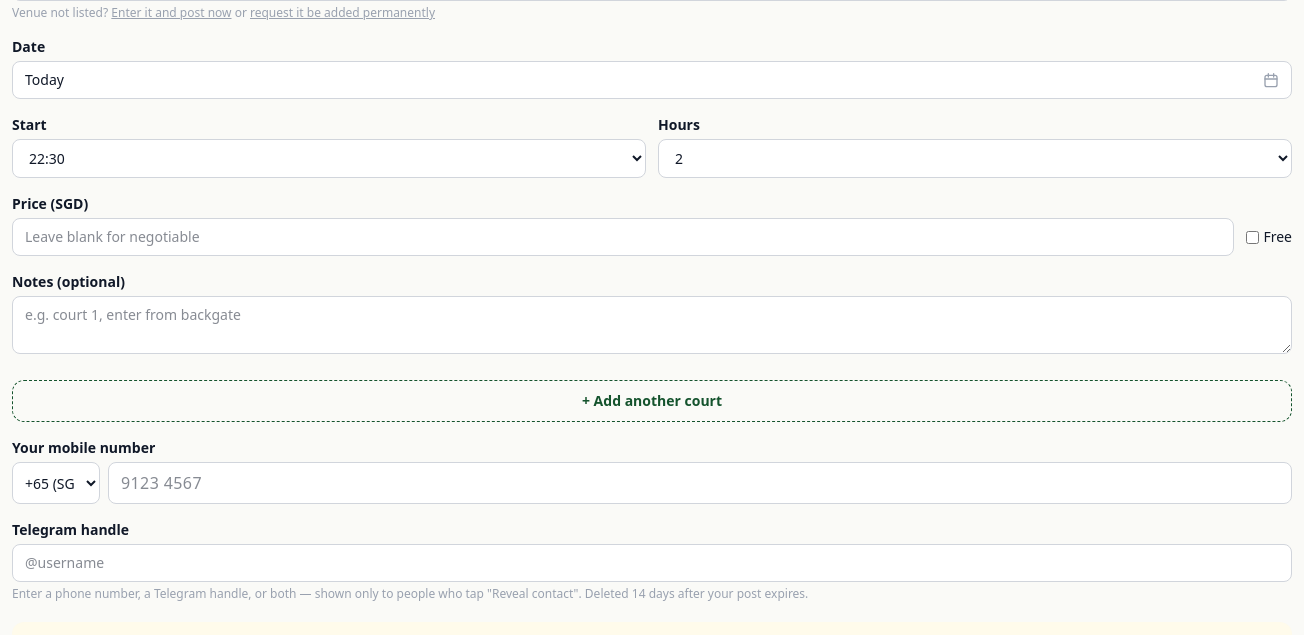
Test: PostForm › an entry added via '+ Add another court' starts at the next valid slot, not the stale 08:00 default
Click the button "+ Add another court": (652, 401) [12,380,1292,422]
(page scrolled)
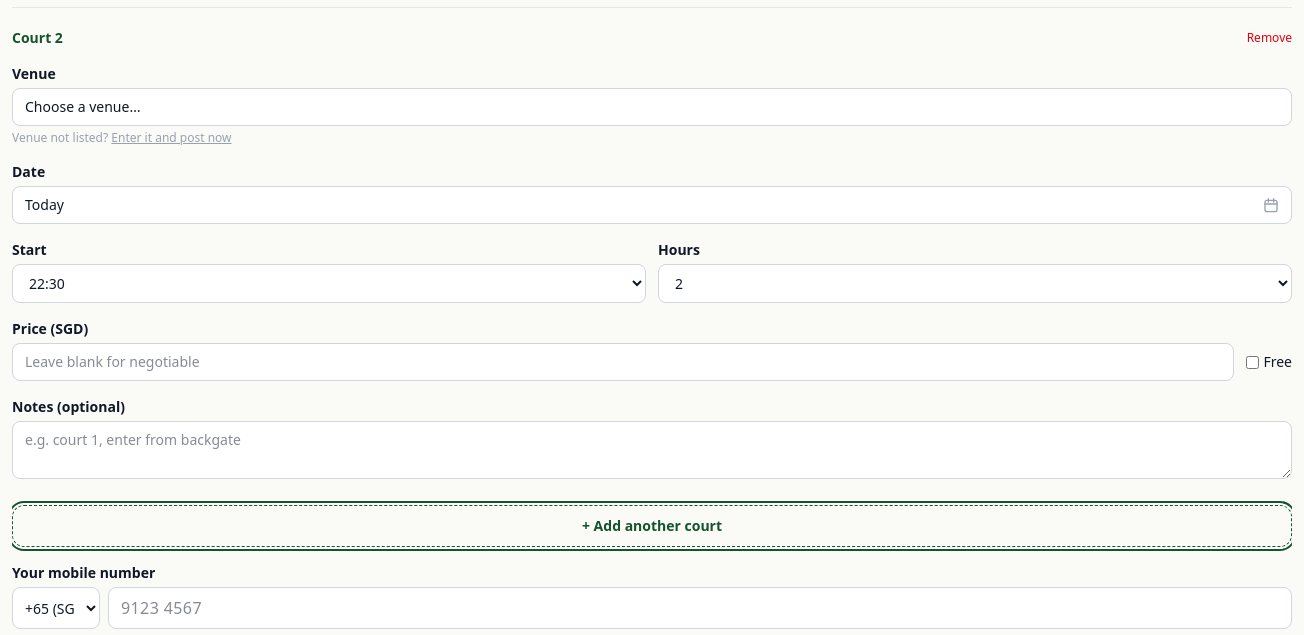
Expected: the number of fields labelled "Start time" is 2
Expected: the dropdown named "Start time" shows "22:30", [12,264,646,303]
